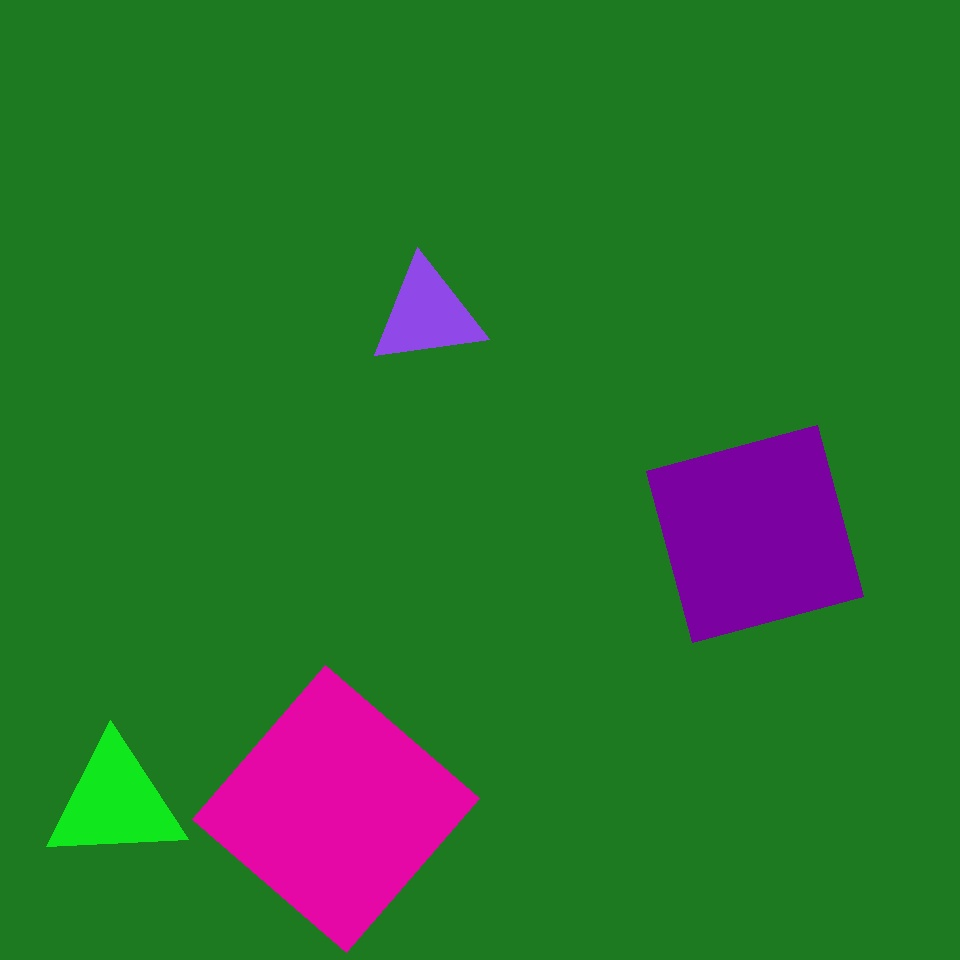circle: (44, 739, 186, 865), (370, 260, 484, 368)
square: (192, 665, 480, 952), (646, 426, 864, 642)
